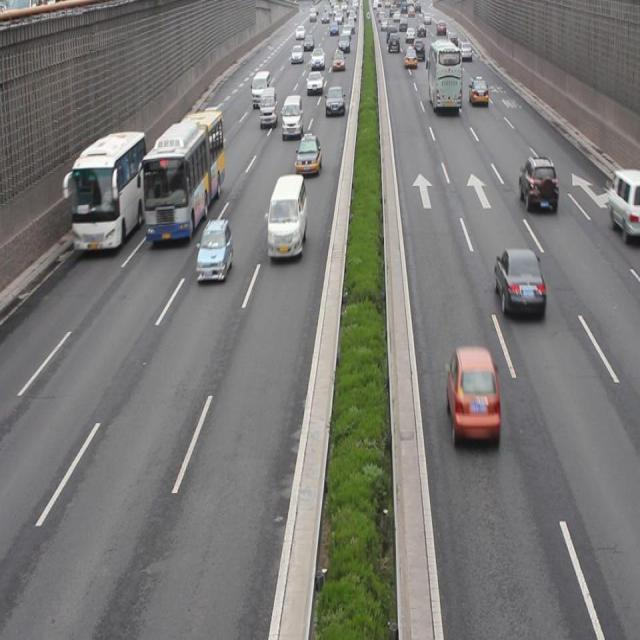car: (445, 347, 499, 451), (492, 247, 543, 318), (195, 218, 232, 280), (518, 156, 557, 214), (294, 132, 321, 176)
truck: (268, 173, 306, 261), (608, 168, 640, 241), (281, 93, 303, 140)
van: (142, 112, 226, 244), (70, 132, 146, 254)
